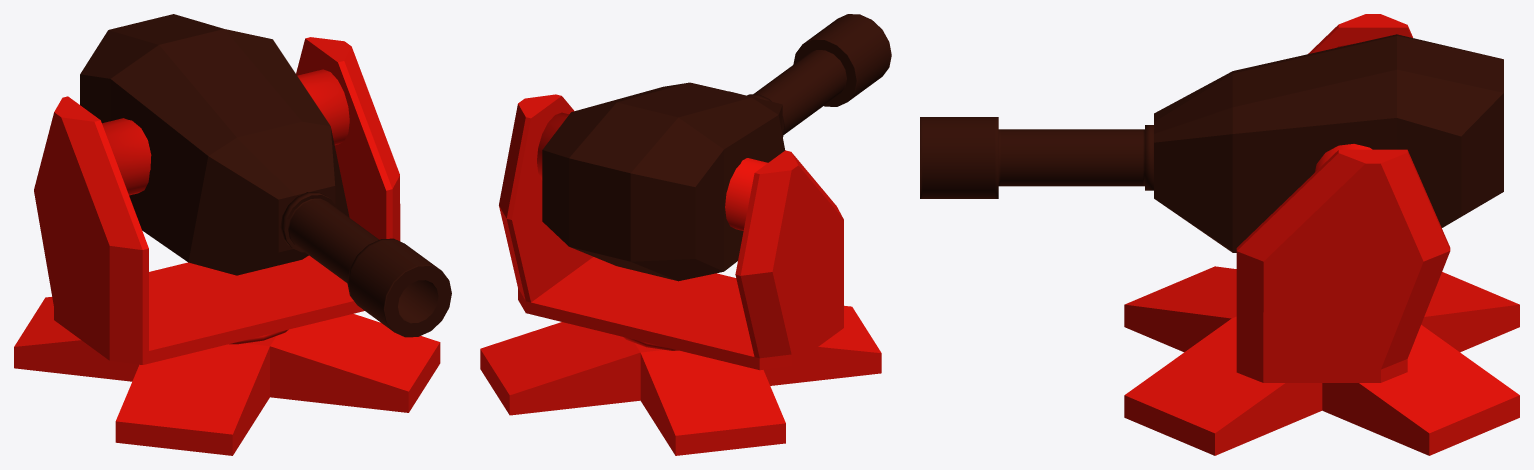
File: generalTurret.glb
The picture shows the model from 3 angles, left to right: view 1: azimuth 30°, elevation 25°; view 2: azimuth 150°, elevation 25°; view 3: azimuth 270°, elevation 25°; orthographic projection. The views are drawn at different scales.
Visible parts, largest first — view 1: _pivotvertical_export, _pivothorizontal_export, _base_export; view 2: _pivotvertical_export, _pivothorizontal_export, _base_export; view 3: _pivotvertical_export, _pivothorizontal_export, _base_export.
Part boxes in pixels (box(x1,y1,x2,y2)): _pivotvertical_export: box(80, 14, 451, 337); _pivothorizontal_export: box(34, 37, 400, 364); _base_export: box(14, 297, 440, 455); _pivotvertical_export: box(537, 14, 891, 281); _pivothorizontal_export: box(499, 94, 843, 370); _base_export: box(480, 305, 881, 455); _pivotvertical_export: box(920, 34, 1503, 252); _pivothorizontal_export: box(1236, 14, 1450, 382); _base_export: box(1124, 266, 1519, 455).
Size of the model in its own units: 8.6 by 7.68 by 13.05.
